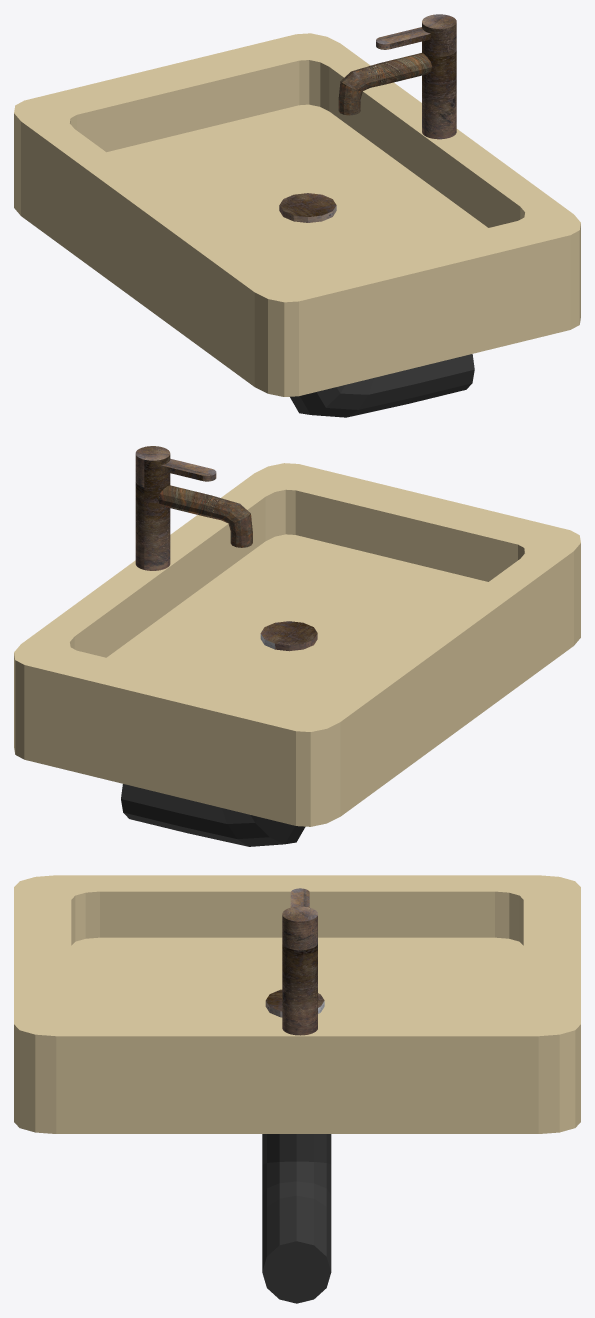
Rendered from RAKOVINA.fbx.
3 renders of one model, top to bottom at view 1: azimuth 30°, elevation 25°; view 2: azimuth 150°, elevation 25°; view 3: azimuth 270°, elevation 25°, orthographic. The views are drawn at different scales.
Visible parts, largest first — view 1: RAKOVINA, Body1.005; view 2: RAKOVINA, Body1.005; view 3: RAKOVINA, Body1.005.
Boxes of the visible parts, left/top/right/bottom form: RAKOVINA: left=14, top=33, right=580, bottom=417; Body1.005: left=338, top=14, right=456, bottom=139; RAKOVINA: left=14, top=463, right=580, bottom=846; Body1.005: left=135, top=446, right=252, bottom=570; RAKOVINA: left=14, top=875, right=580, bottom=1303; Body1.005: left=282, top=888, right=317, bottom=1035.
Bounding box in the file's own units: 240 × 265 × 357.
Materials: 5 (3 with a texture image).
